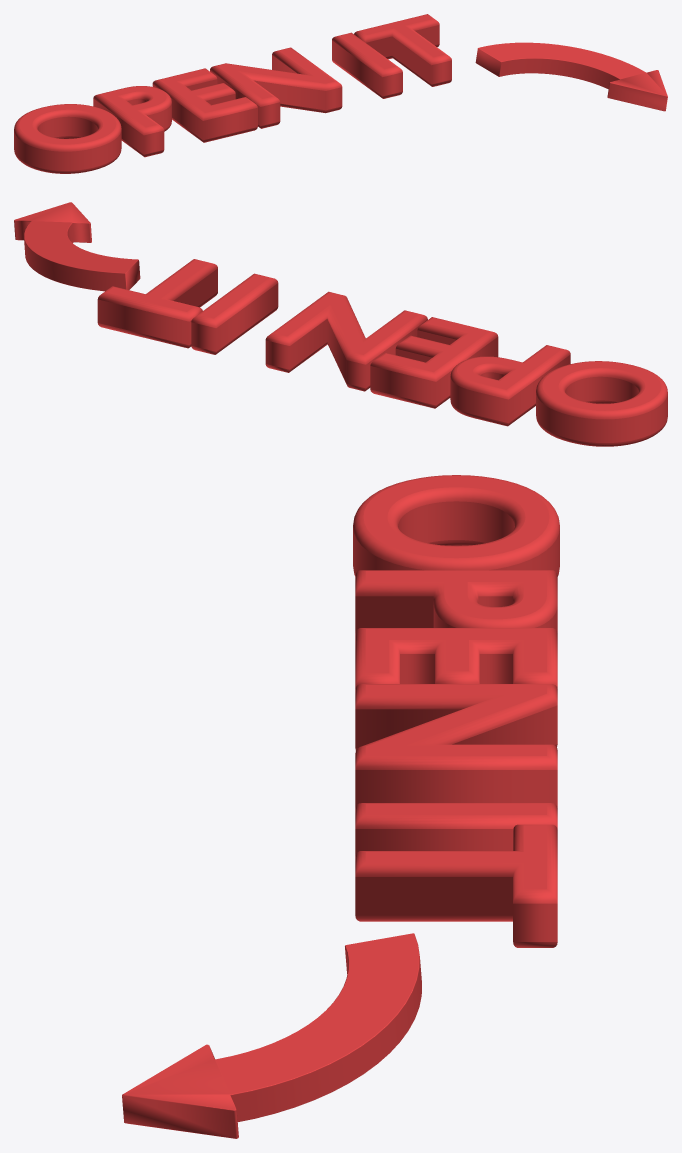
Rendered from OpenIT.fbx.
3 renders of one model, top to bottom at view 1: azimuth 30°, elevation 25°; view 2: azimuth 150°, elevation 25°; view 3: azimuth 270°, elevation 25°, orthographic. The views are drawn at different scales.
Visible parts, largest first — view 1: Text, 3D_Arrows_by_Peter_Iliev_obj.001; view 2: Text, 3D_Arrows_by_Peter_Iliev_obj.001; view 3: Text, 3D_Arrows_by_Peter_Iliev_obj.001.
Boxes of the visible parts, x1,y1,x2,y2 form: Text: (14,14,451,173); 3D_Arrows_by_Peter_Iliev_obj.001: (475,42,667,111); Text: (97,259,667,446); 3D_Arrows_by_Peter_Iliev_obj.001: (14,202,140,291); Text: (353,475,559,947); 3D_Arrows_by_Peter_Iliev_obj.001: (122,933,421,1138).
Bounding box in the file's own units: 506 × 43.2 × 165.
